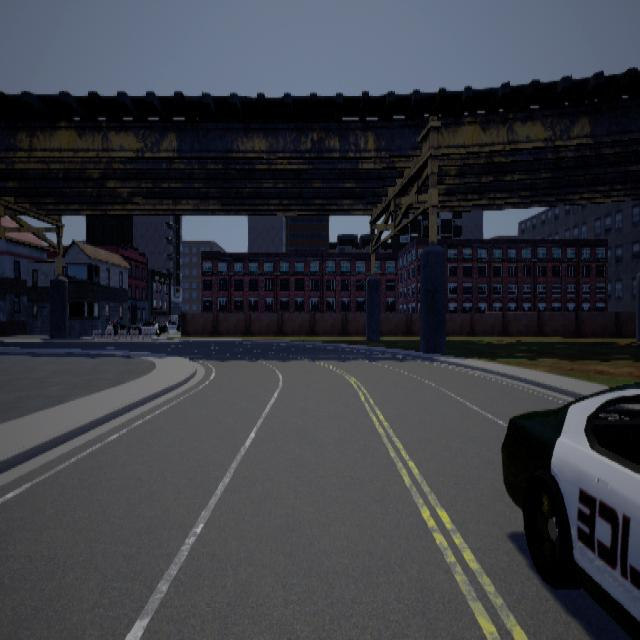vehicle: (502, 381, 640, 638)
